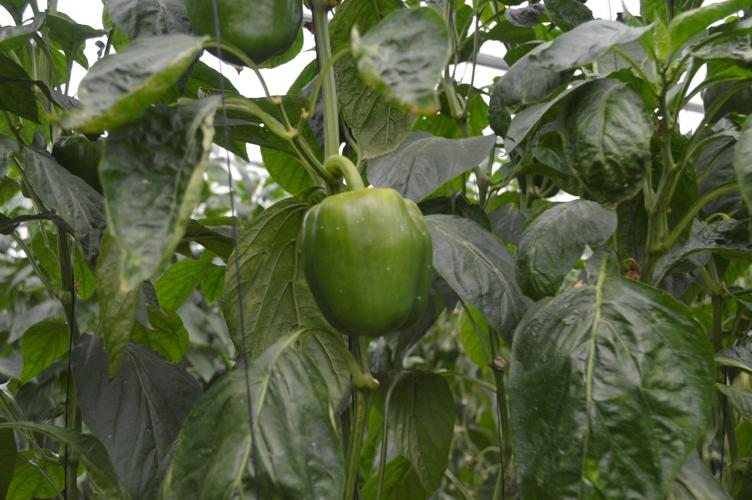BellPepper: (299, 189, 438, 332), (190, 7, 304, 55)
